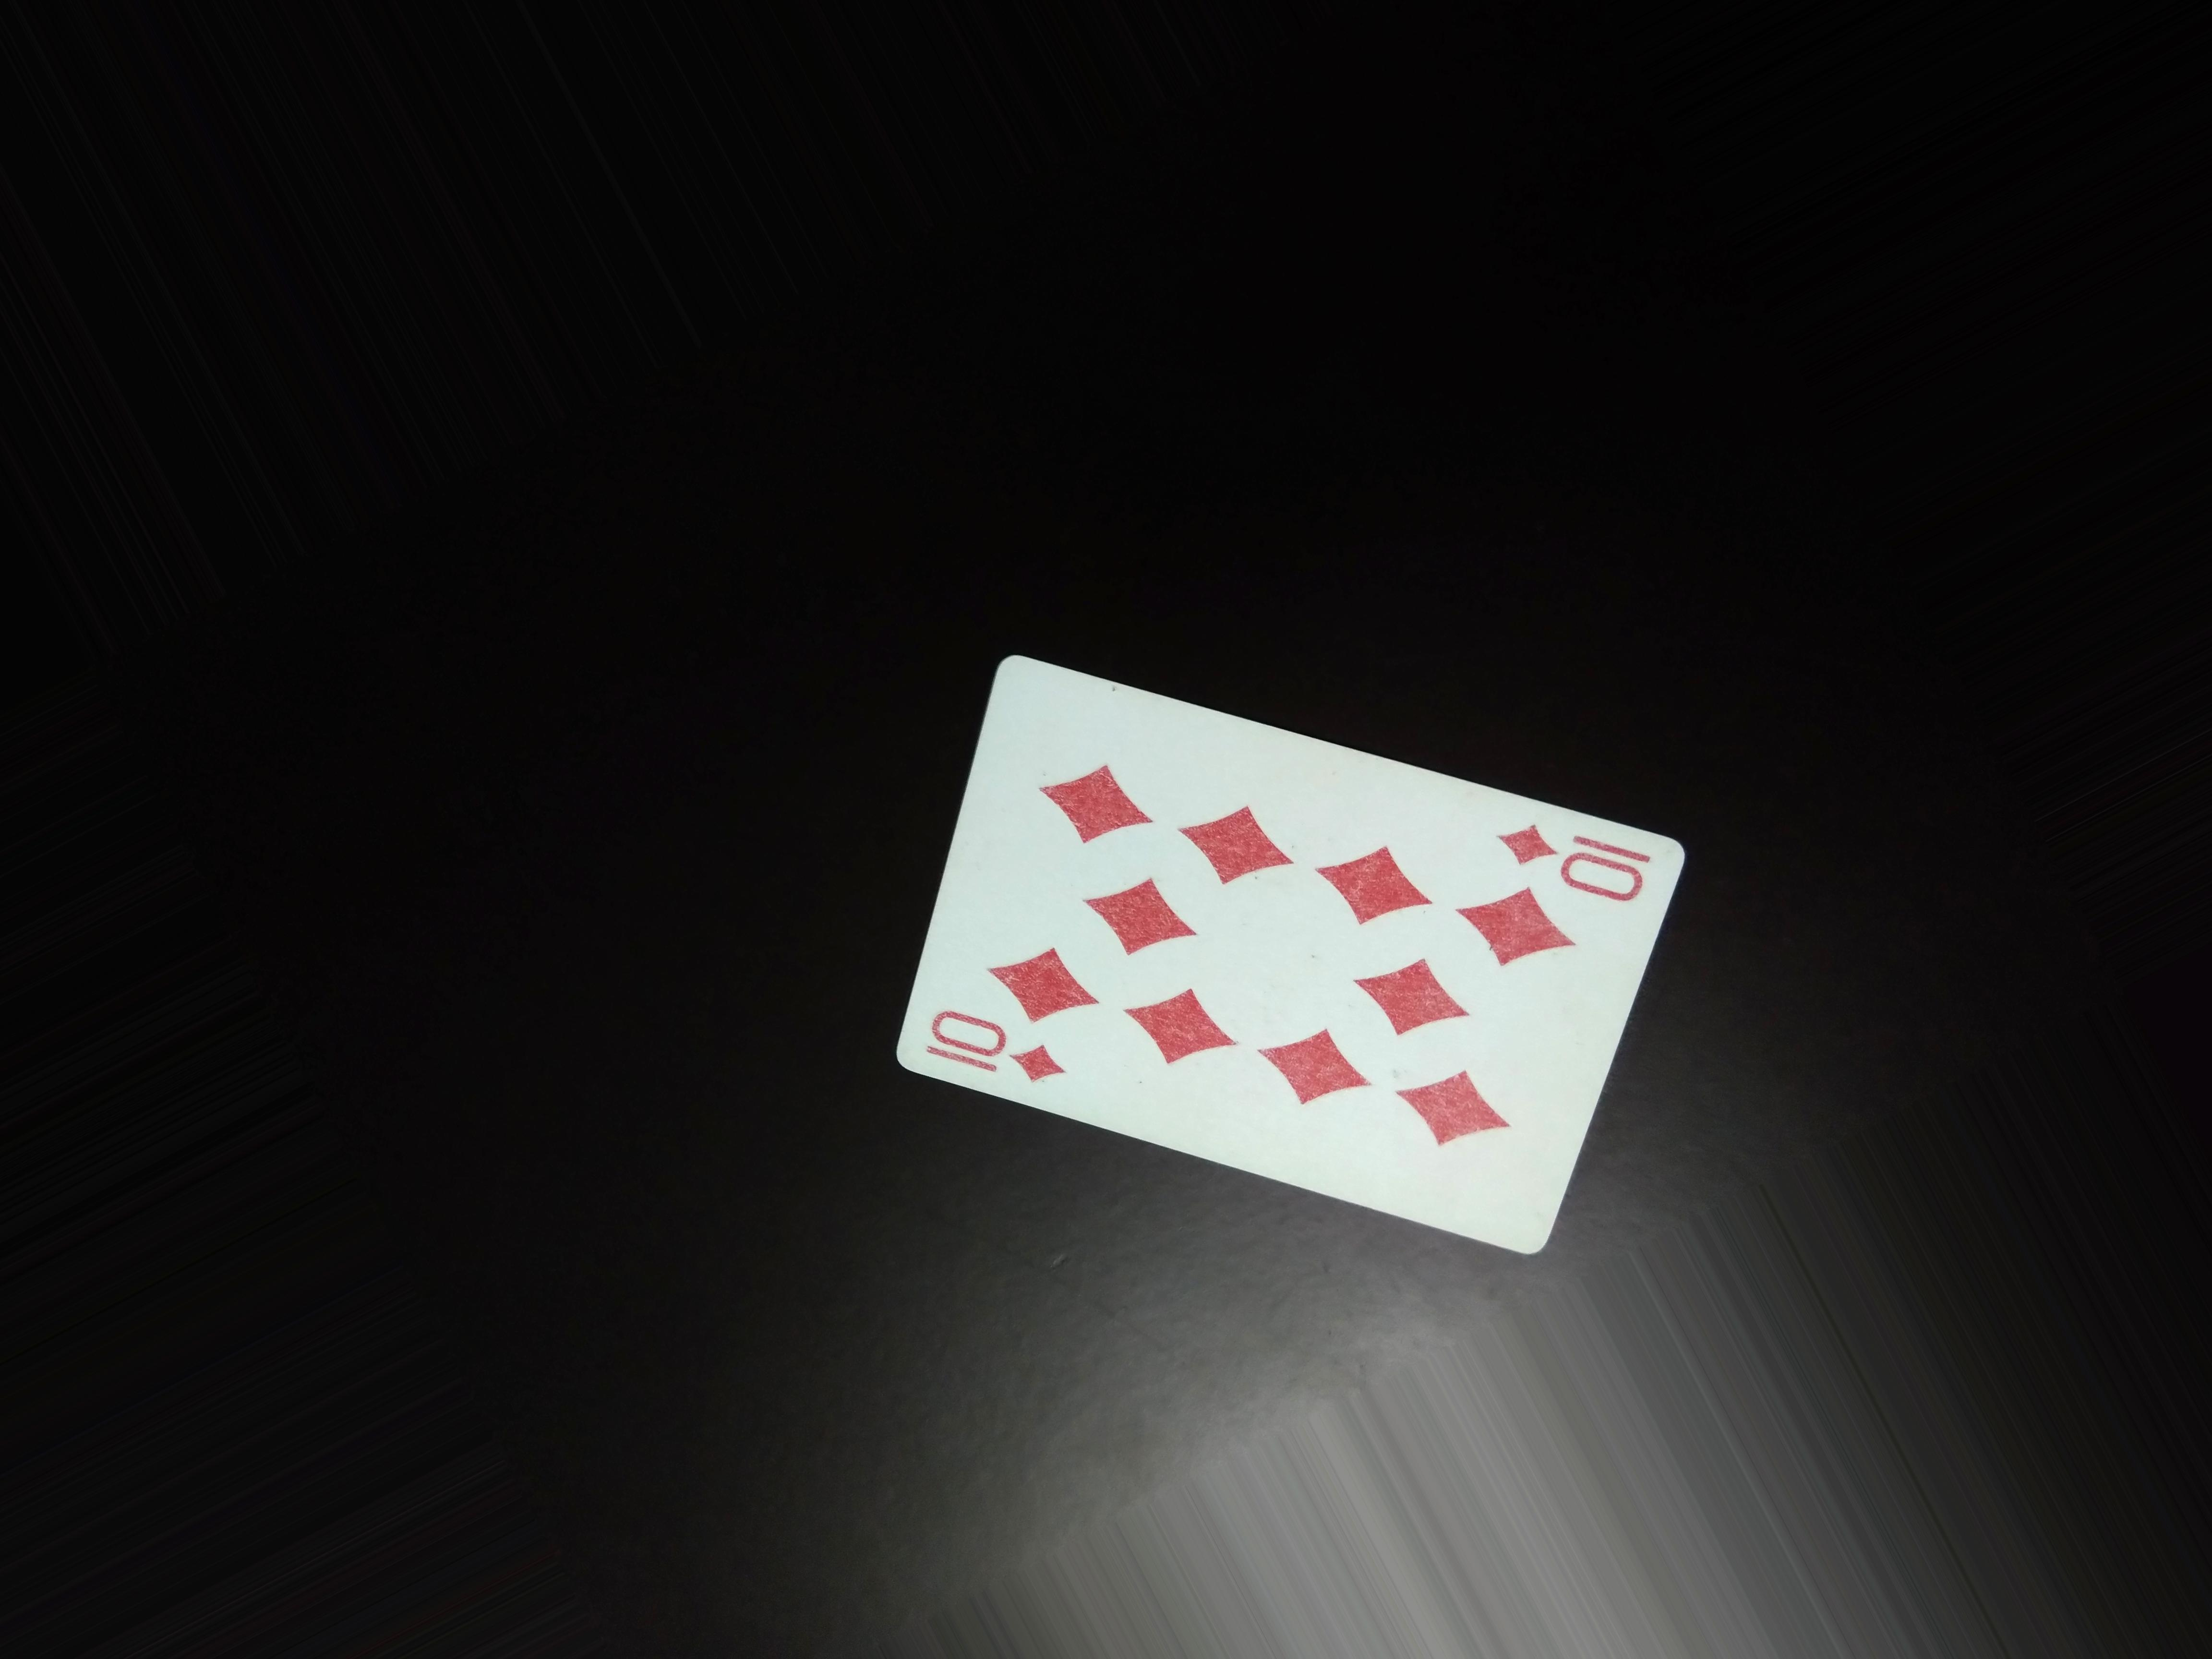10D: (1493, 807, 1672, 917)
